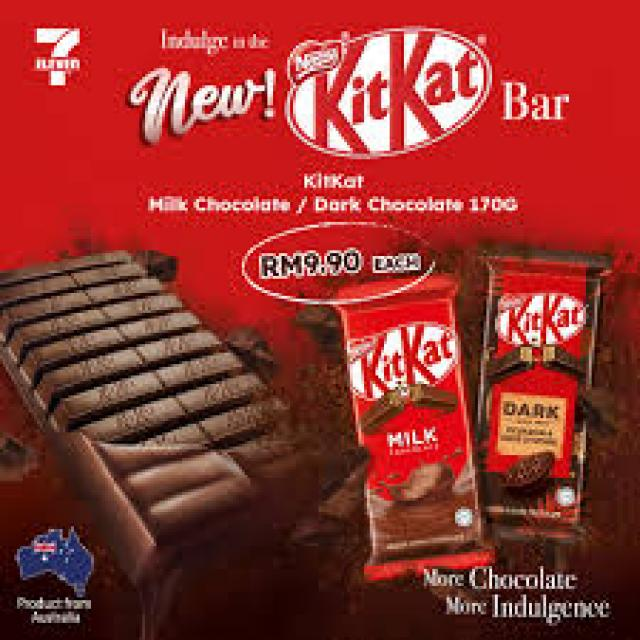kitkat: (346, 267, 484, 594), (478, 236, 608, 554)
